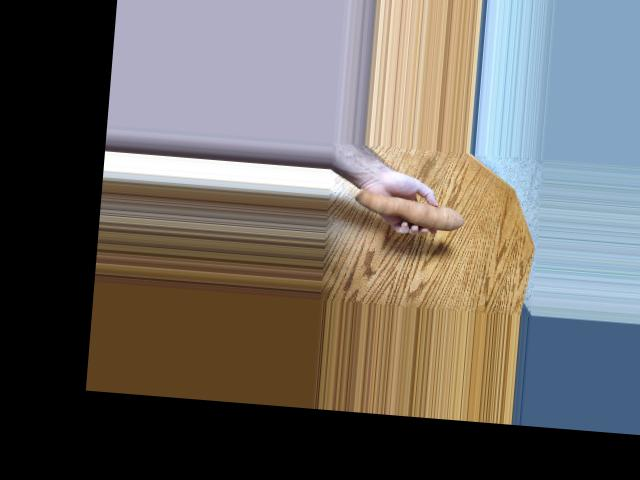sweet_potato: (358, 188, 465, 239)
